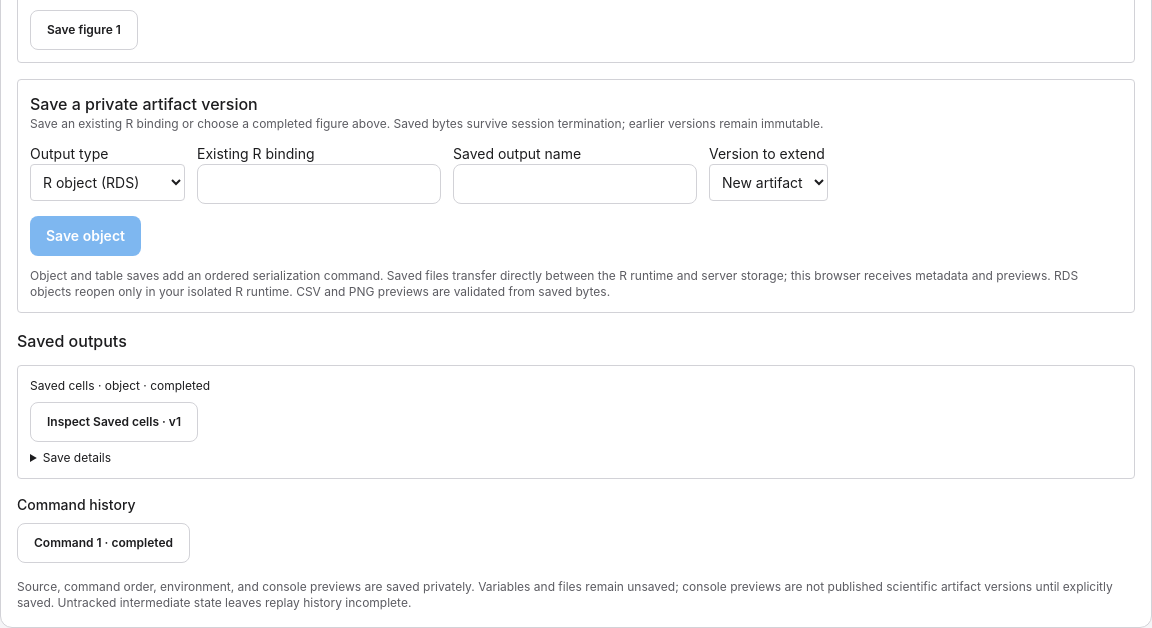
Test: inspects large saved RDS metadata and exact bytes without downloading the object through the browser
(page scrolled)
Click the button "Inspect Saved cells · v1" at [114, 422], box [30,402,198,442]
(page scrolled)
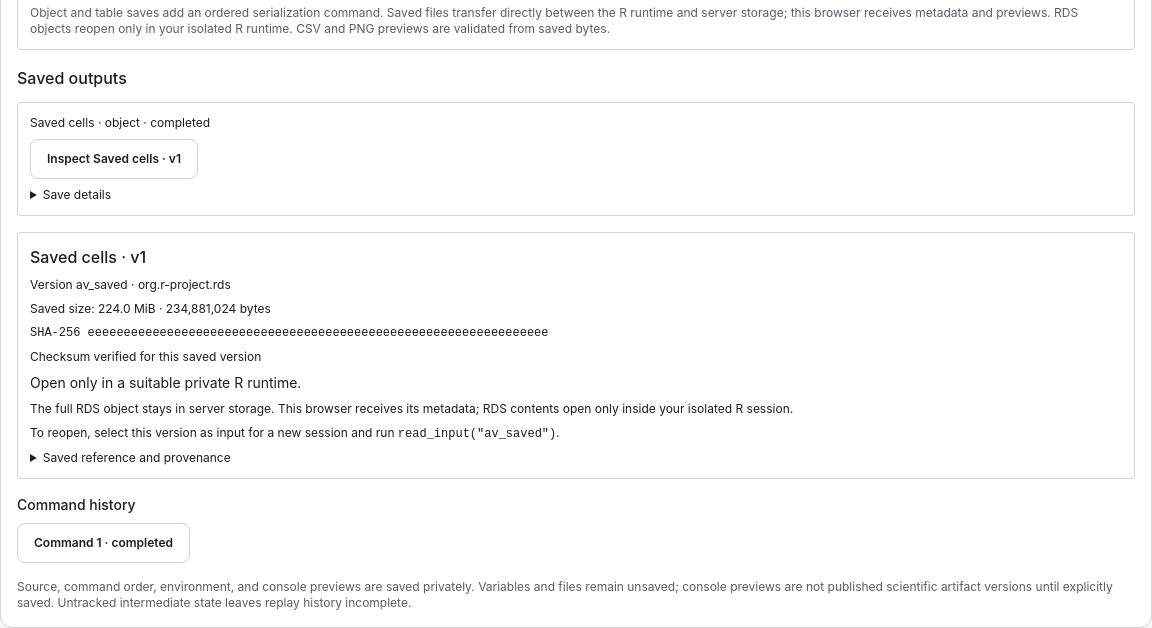
Now the element named "Saved R artifact preview" shows "Saved size: 224.0 MiB · 234,881,024 bytes", box [17,232,1135,479]
Now the element named "Saved R artifact preview" shows "The full RDS object stays in server storage", box [30,401,793,416]
Now the element named "Saved R artifact preview" shows "read_input(\"av_saved\")", box [398,427,556,441]
